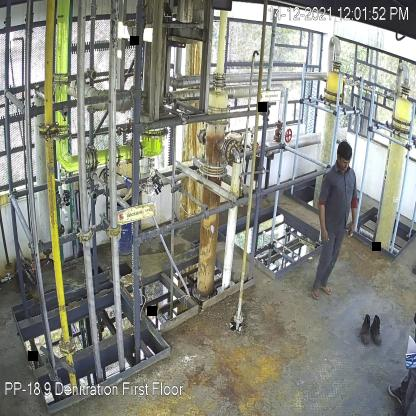no_shoes: (316, 278, 332, 296)
shoes: (369, 313, 385, 350), (358, 313, 372, 345)
